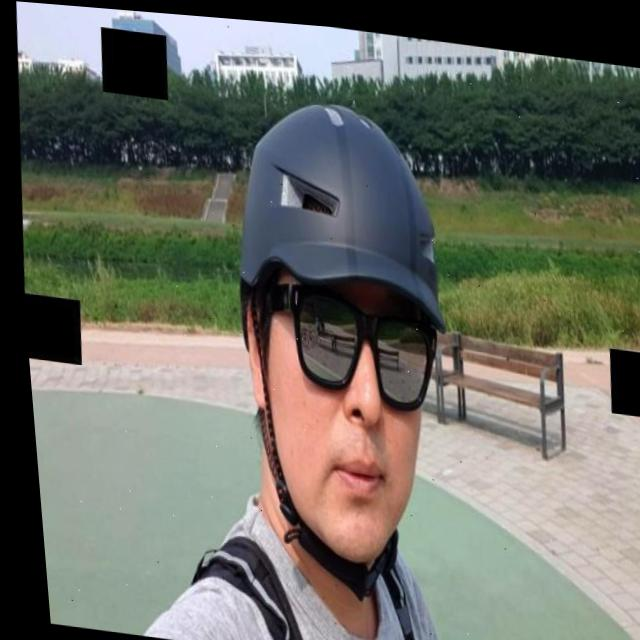helmet: (205, 82, 476, 611)
